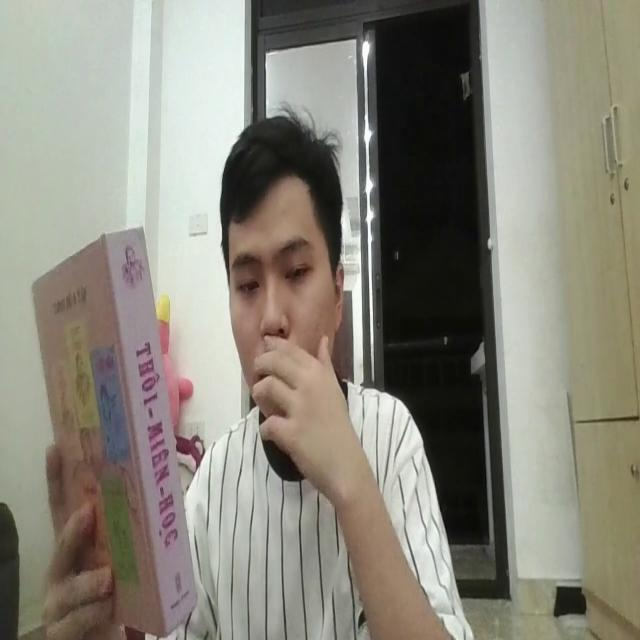book: (28, 220, 191, 640)
student: (189, 106, 472, 640)
